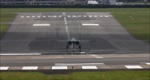maybay_muctieu: (59, 33, 89, 50)
